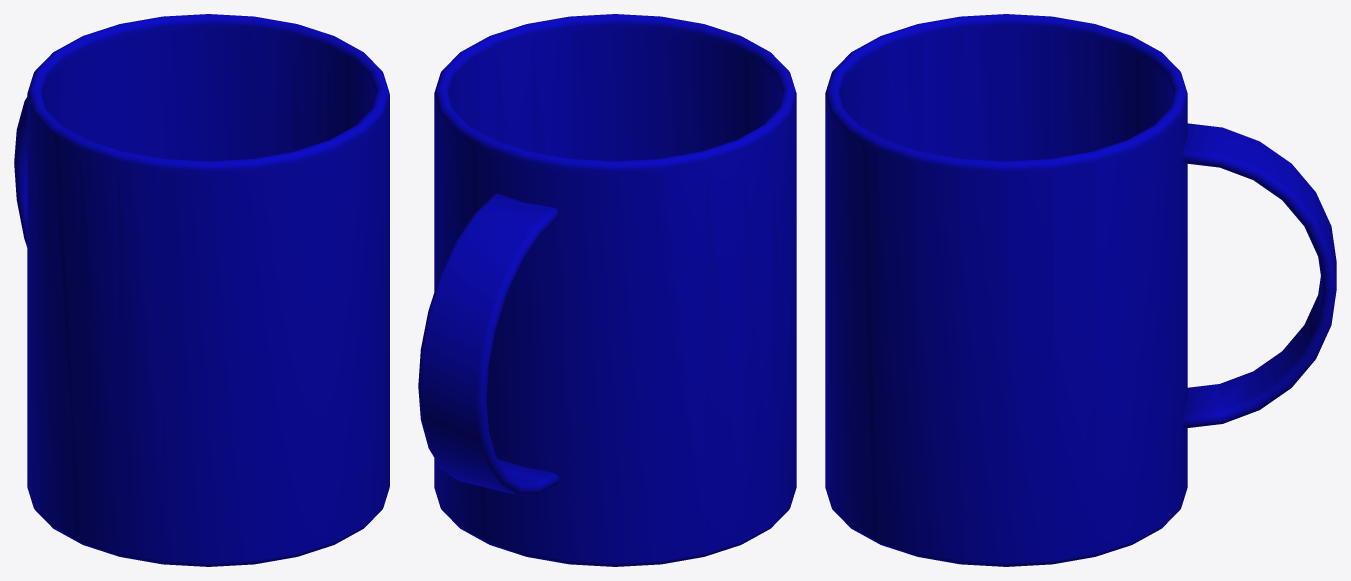
The picture shows the model from 3 angles, left to right: view 1: azimuth 30°, elevation 25°; view 2: azimuth 150°, elevation 25°; view 3: azimuth 270°, elevation 25°; orthographic projection.
Visible parts, largest first — view 1: mesh2_mesh2-geometry, mesh1_mesh1-geometry; view 2: mesh2_mesh2-geometry, mesh1_mesh1-geometry; view 3: mesh2_mesh2-geometry, mesh1_mesh1-geometry.
Part boxes in pixels (<box>): mesh2_mesh2-geometry: <box>27,14,389,566</box>; mesh1_mesh1-geometry: <box>14,97,27,247</box>; mesh2_mesh2-geometry: <box>434,14,796,566</box>; mesh1_mesh1-geometry: <box>418,193,558,494</box>; mesh2_mesh2-geometry: <box>825,14,1187,566</box>; mesh1_mesh1-geometry: <box>1183,123,1336,428</box>.
Bounding box in the file's own units: 0.4711 × 0.5798 × 0.6647.
